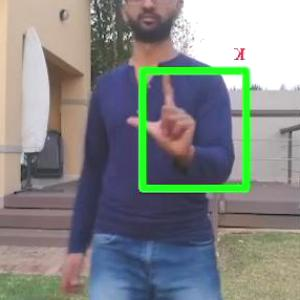land_hand: (123, 61, 204, 158)
